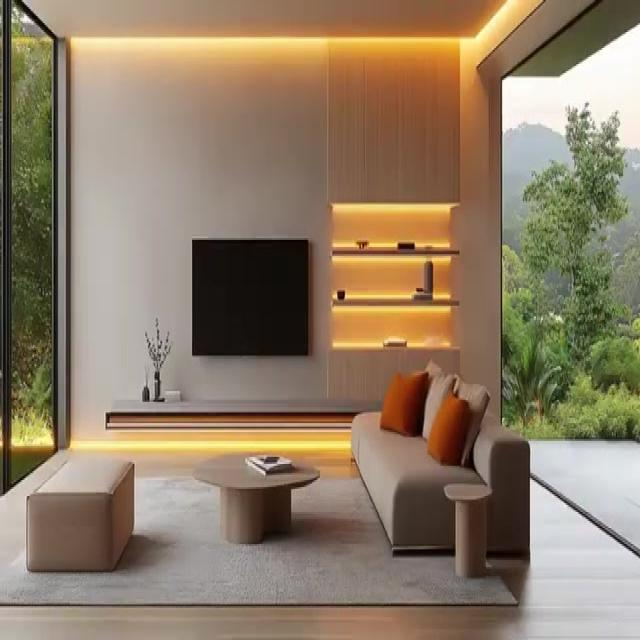obstacle: (350, 361, 530, 556), (192, 452, 320, 544)
